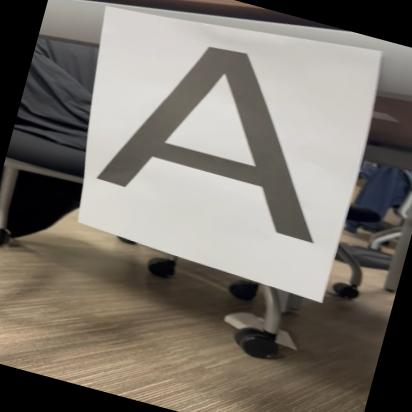seat: (93, 22, 361, 254)
